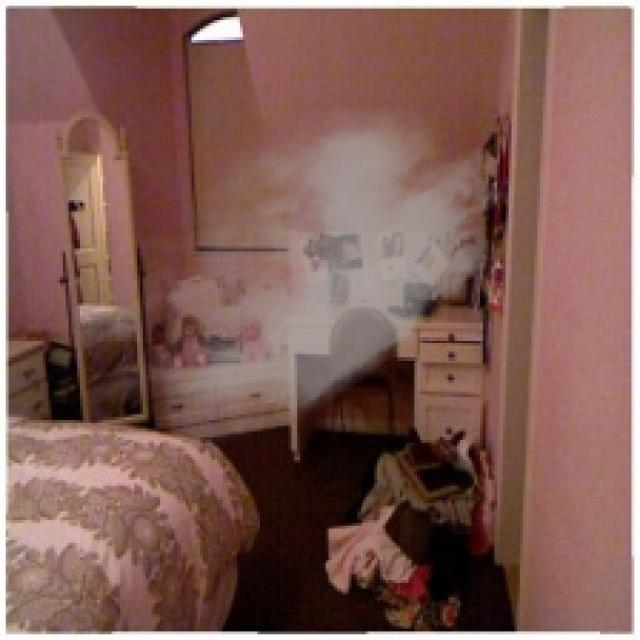Smoke: (89, 88, 508, 454)
